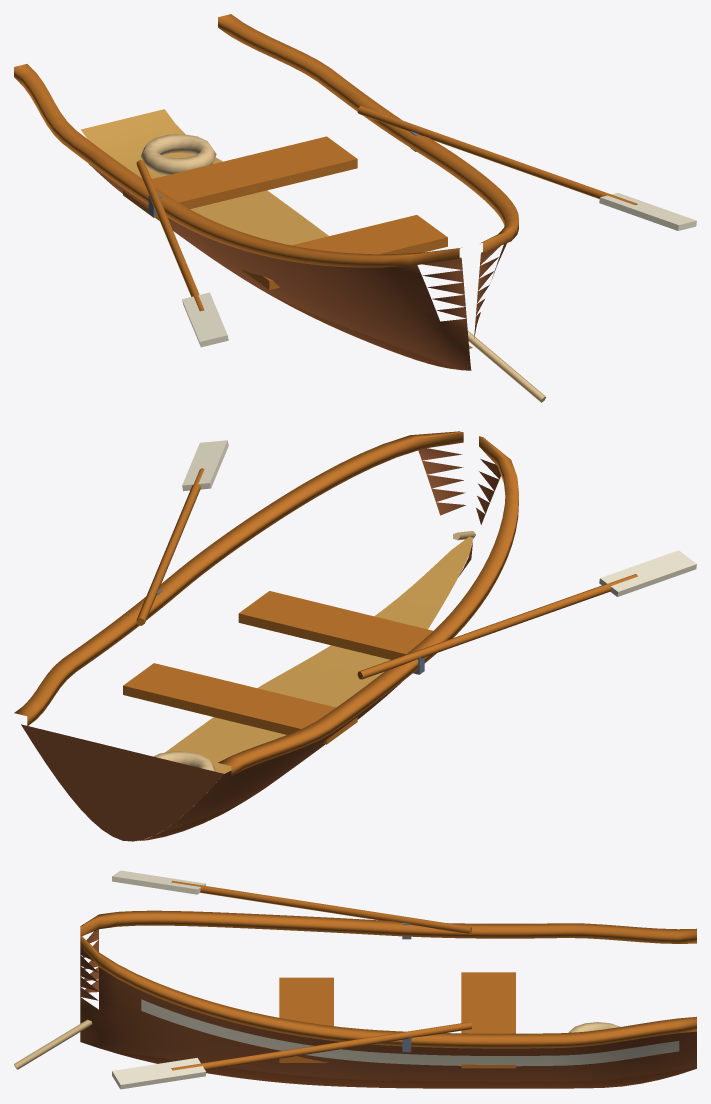
Rendered from barque.glb.
3 renders of one model, top to bottom at view 1: azimuth 30°, elevation 25°; view 2: azimuth 150°, elevation 25°; view 3: azimuth 270°, elevation 25°, orthographic. The views are drawn at different scales.
Visible parts, largest first — view 1: coque__orange_fonce, coque__orange, bancs__orange, coque__orange2, rames__orange, coque__orange_pale, rames__blanc, coque__brun; view 2: coque__orange, coque__orange_fonce, bancs__orange, coque__orange2, rames__orange, rames__blanc, coque__orange_pale; view 3: coque__orange_fonce, coque__orange, bancs__orange, coque__blanc, rames__orange, coque__brun, rames__blanc, coque__orange_pale.
Part boxes in pixels (x1=…): coque__orange_fonce: x1=88, y1=163, x2=506, y2=370; coque__orange: x1=14, y1=14, x2=518, y2=267; bancs__orange: x1=123, y1=136, x2=447, y2=289; coque__orange2: x1=81, y1=109, x2=472, y2=348; rames__orange: x1=136, y1=106, x2=637, y2=311; coque__orange_pale: x1=140, y1=134, x2=545, y2=402; rames__blanc: x1=182, y1=193, x2=696, y2=347; coque__brun: x1=234, y1=273, x2=459, y2=369; coque__orange: x1=14, y1=431, x2=518, y2=775; coque__orange_fonce: x1=21, y1=448, x2=500, y2=841; bancs__orange: x1=123, y1=591, x2=432, y2=744; coque__orange2: x1=165, y1=536, x2=472, y2=826; rames__orange: x1=136, y1=468, x2=637, y2=679; rames__blanc: x1=182, y1=440, x2=696, y2=596; coque__orange_pale: x1=153, y1=531, x2=475, y2=771; coque__orange_fonce: x1=80, y1=929, x2=696, y2=1081; coque__orange: x1=80, y1=910, x2=696, y2=1048; bancs__orange: x1=279, y1=972, x2=515, y2=1068; coque__blanc: x1=141, y1=999, x2=679, y2=1066; rames__orange: x1=171, y1=880, x2=472, y2=1070; coque__brun: x1=102, y1=1049, x2=696, y2=1088; rames__blanc: x1=112, y1=870, x2=205, y2=1089; coque__orange_pale: x1=14, y1=1019, x2=620, y2=1069.
Size of the model in its own units: 2.79 by 0.909 by 3.75.
